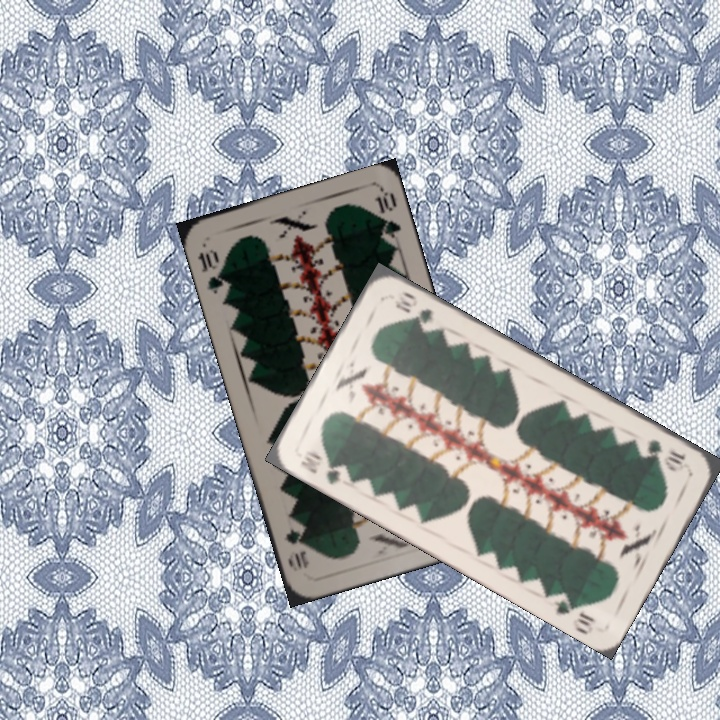G10: (296, 446, 353, 488), (193, 245, 232, 297), (643, 435, 692, 469)
